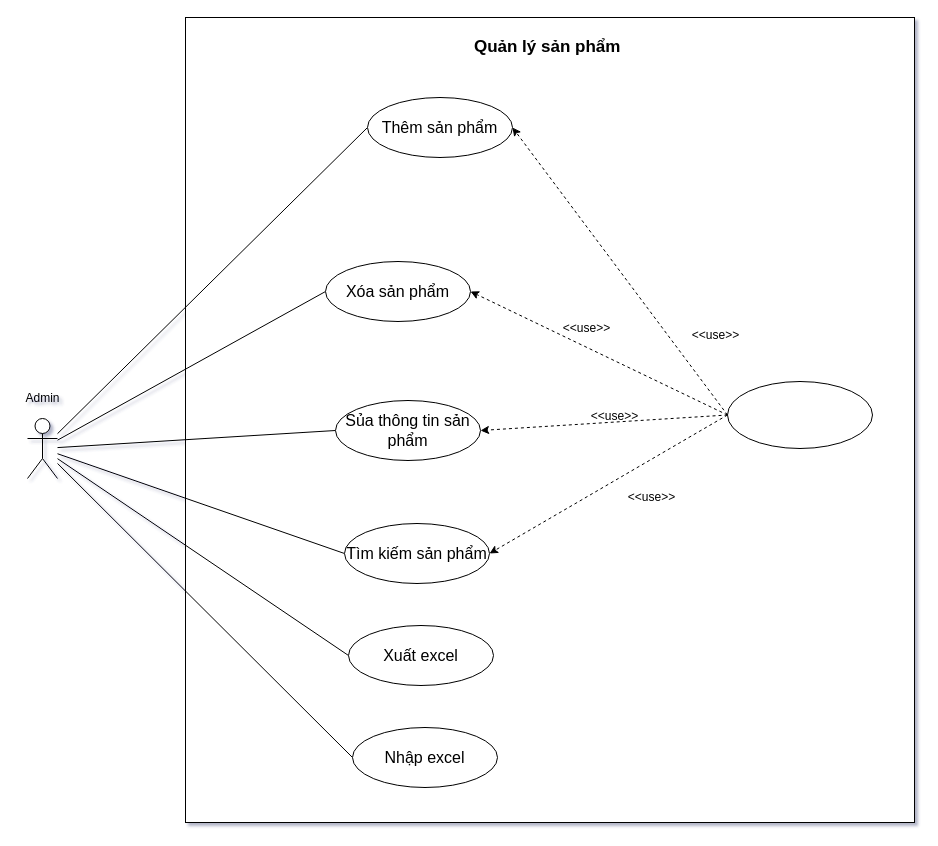
The diagram is 938 pixels wide and 846 high, and some of its shapes have lost their labels. Here are the shapes that lost their labels. From the top down, the box of each, then its label:
(726, 380, 872, 448): Xem danh sách sản phẩm
(26, 418, 58, 478): Actor
